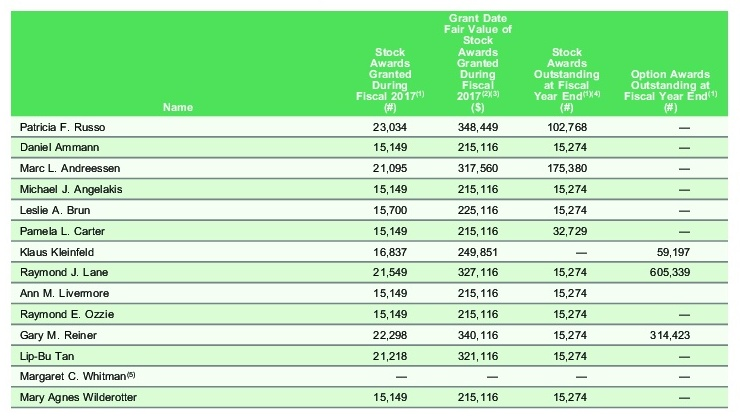table: (0, 0, 740, 420)
